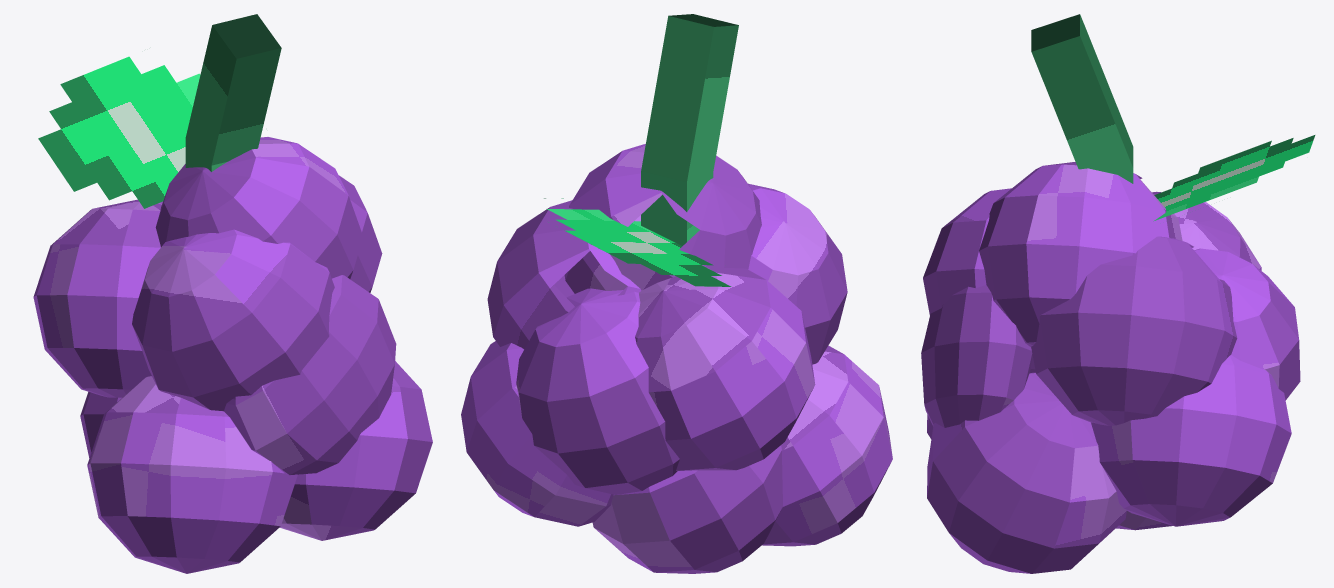
Rendered from grapes.gltf.
3 renders of one model, left to right at view 1: azimuth 30°, elevation 25°; view 2: azimuth 150°, elevation 25°; view 3: azimuth 270°, elevation 25°, orthographic. The views are drawn at different scales.
Visible parts, largest first — view 1: sphere (×8), cube (×3); view 2: sphere (×8), cube (×3); view 3: sphere (×9), cube (×2).
Boxes of the visible parts, x1,y1,x2,y2 form: sphere (×8): (33, 137, 432, 573); cube (×3): (38, 14, 281, 208); sphere (×8): (461, 143, 892, 573); cube (×3): (544, 14, 738, 286); sphere (×9): (921, 162, 1300, 573); cube (×2): (1031, 14, 1315, 221).
Size of the model in its own units: 0.4388 by 0.6769 by 0.4813.
3 materials, 3 textured.
